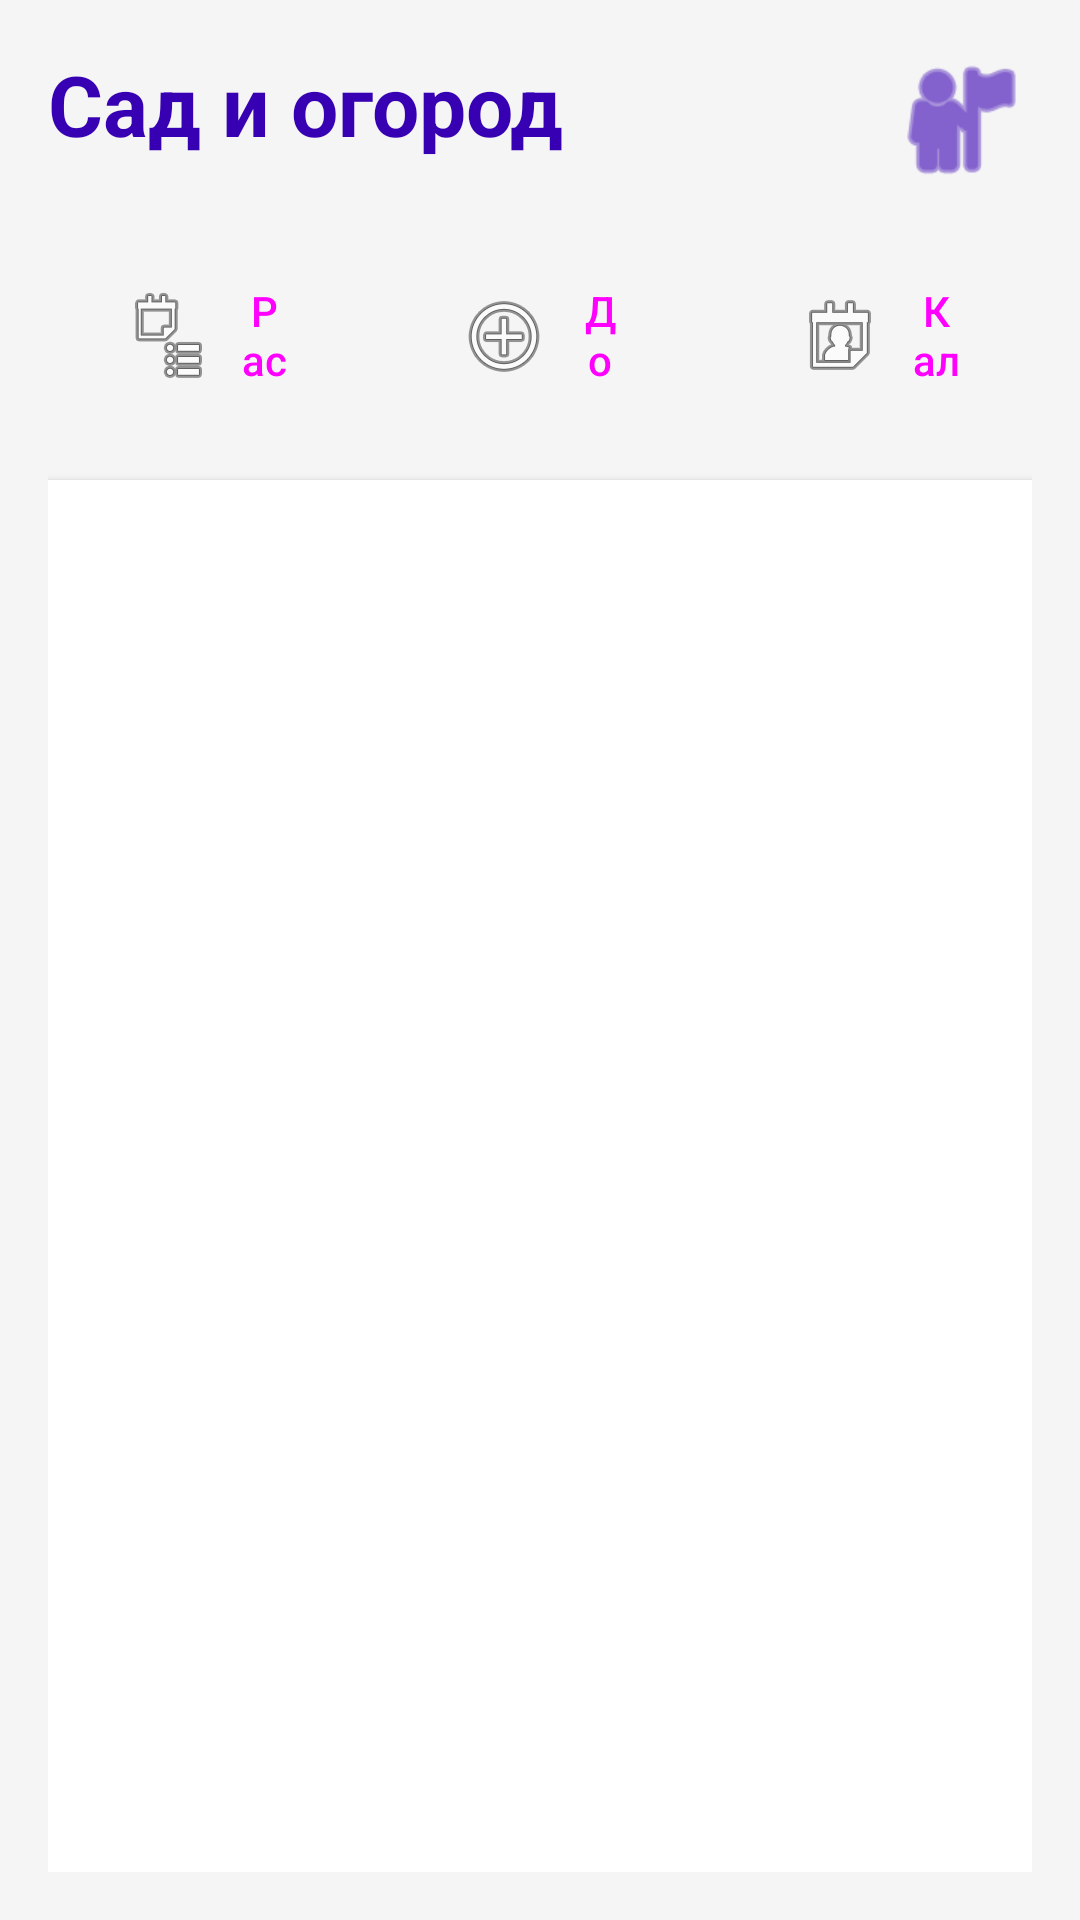

Icons on this 1080 × 1920 Android screen, each with the point to tap as (x=x, y=y):
myplaces: (x=961, y=120)
